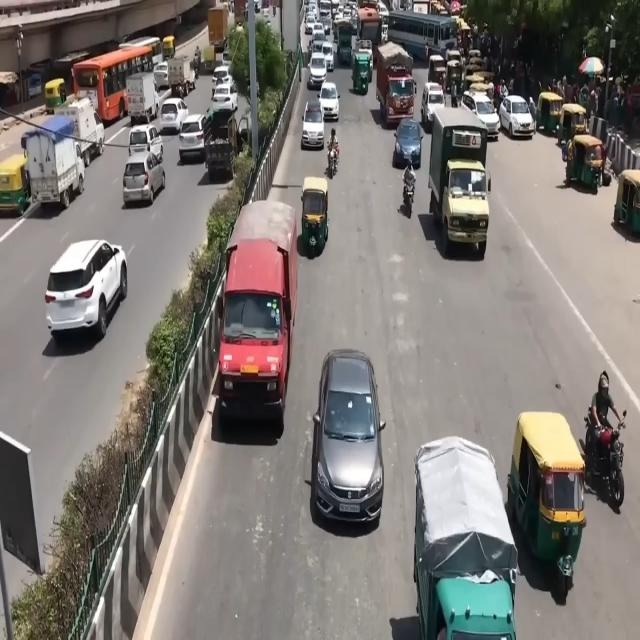auto: (509, 412, 586, 572), (566, 131, 606, 193), (300, 176, 329, 254), (0, 153, 30, 216), (559, 102, 589, 146), (536, 91, 562, 135), (351, 45, 373, 93), (44, 77, 67, 115), (428, 52, 448, 92), (445, 57, 465, 95), (162, 36, 176, 60)
bike-auto: (584, 360, 627, 520), (402, 161, 416, 211), (327, 142, 339, 179)
